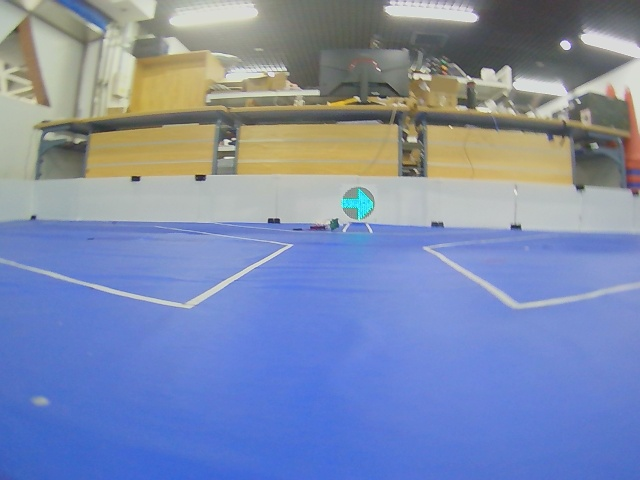right_green: (342, 187, 375, 220)
